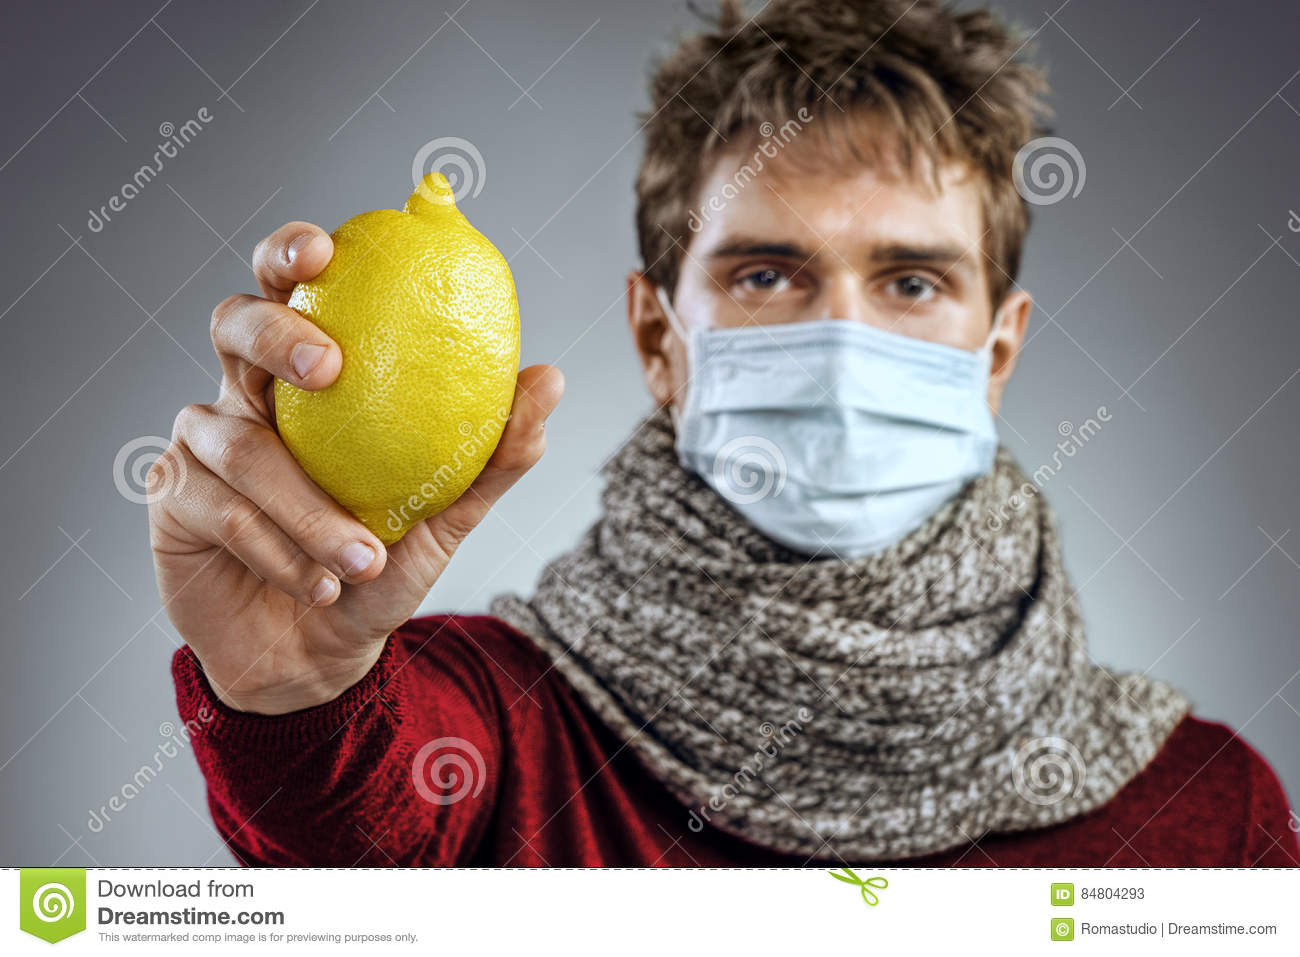mask: (674, 332, 998, 566)
